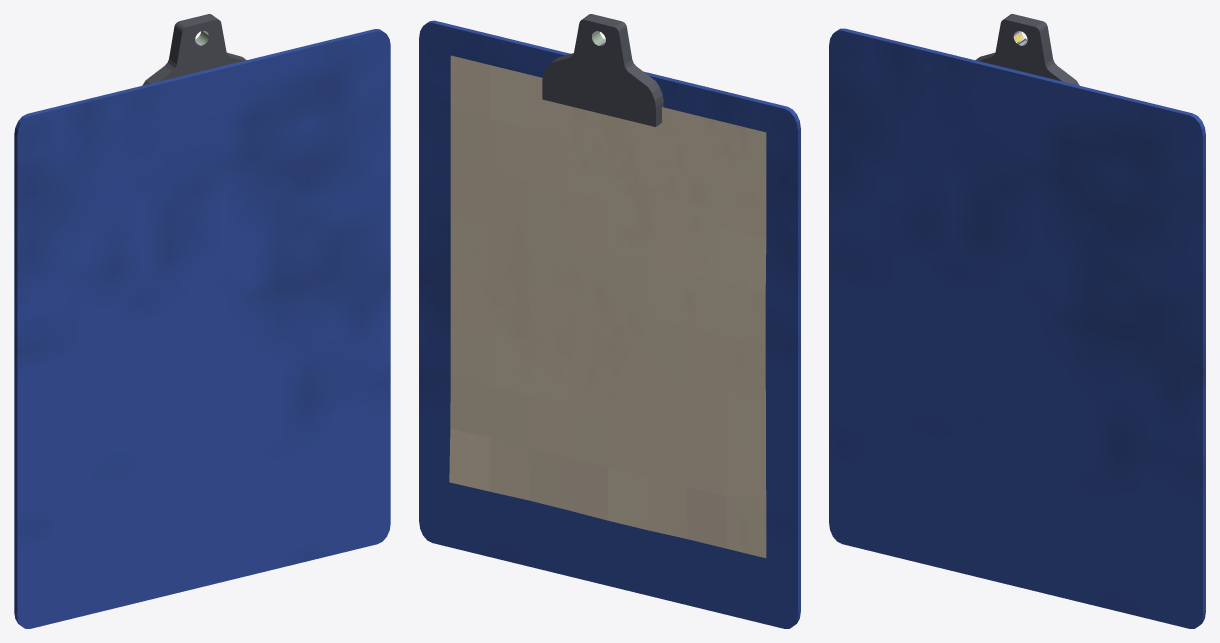
The model's file is report.fbx.
3 views of the same model, side by side, from view 1: azimuth 30°, elevation 25°; view 2: azimuth 150°, elevation 25°; view 3: azimuth 330°, elevation 25° (orthographic).
Visible parts, largest first — view 1: Cube.003; view 2: Cube.003; view 3: Cube.003.
Boxes of the visible parts, bbox=[...] form: Cube.003: bbox=[14, 14, 390, 628]; Cube.003: bbox=[419, 14, 800, 628]; Cube.003: bbox=[829, 14, 1205, 628].
Bounding box in the file's own units: 64.78 × 92.89 × 3.35.
1 material, 1 textured.
